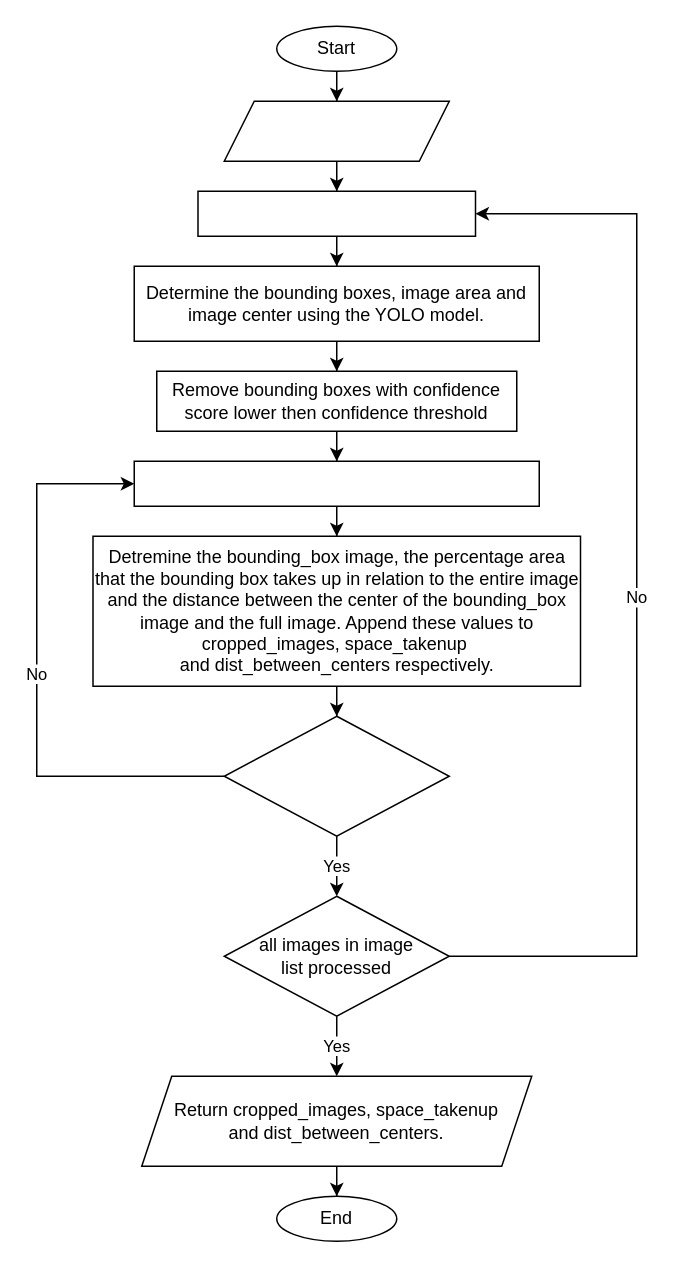
This 675x1268 diagram has some shape labels left out. The box of each missing label's shape, as (x1, y1, x2, y2) in pixels:
all bounding boxes in predictions processed: (223, 715, 449, 836)
bounding_box = next bounding box in predictions: (133, 460, 539, 506)
image = next image in image list: (196, 190, 476, 236)
image list, confidence threshold: (223, 100, 449, 161)
